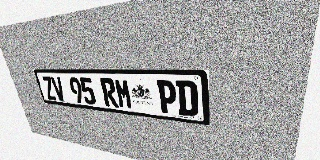5: (79, 77, 97, 105)
9: (68, 77, 85, 104)
D: (176, 80, 198, 117)
M: (114, 78, 133, 109)
P: (156, 80, 178, 114)
R: (100, 78, 119, 108)
V: (50, 77, 67, 101)
Z: (41, 76, 57, 100)
